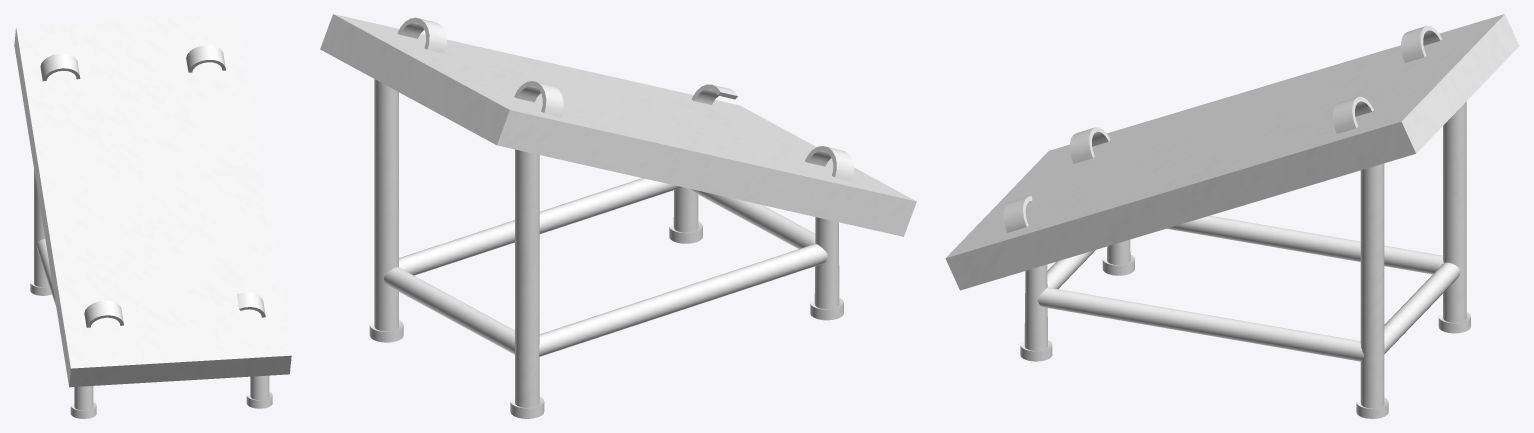
File: Fixed Torture Table.fbx
3 views of the same model, side by side, from view 1: azimuth 30°, elevation 25°; view 2: azimuth 150°, elevation 25°; view 3: azimuth 270°, elevation 25° (orthographic). The views are drawn at different scales.
Visible parts, largest first — view 1: torturetable:polySurface2; view 2: torturetable:polySurface2; view 3: torturetable:polySurface2.
Boxes of the visible parts, x1=… form: torturetable:polySurface2: x1=14, y1=14, x2=291, y2=418; torturetable:polySurface2: x1=320, y1=14, x2=916, y2=418; torturetable:polySurface2: x1=945, y1=14, x2=1519, y2=418.
Bounding box in the file's own units: 265 × 202 × 341.
